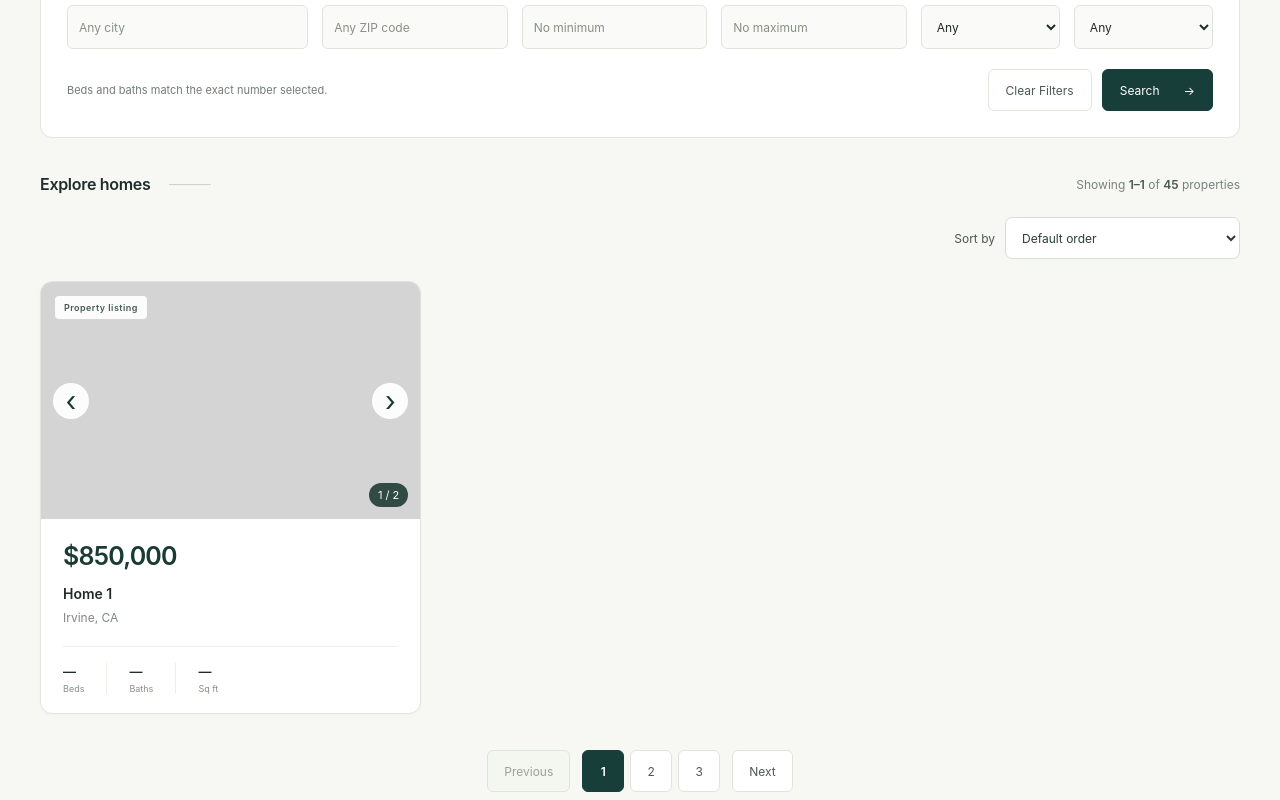
Test: carousel arrows change photos while the card link navigates with L_ListingID
Later steps or results of the test are not shown.
(page scrolled)
Expected: the link "Home 1" is shown, [63,585,112,602]
Click the button named "Next photo of Home 1".
click(390, 401)  # box [372,383,408,419]
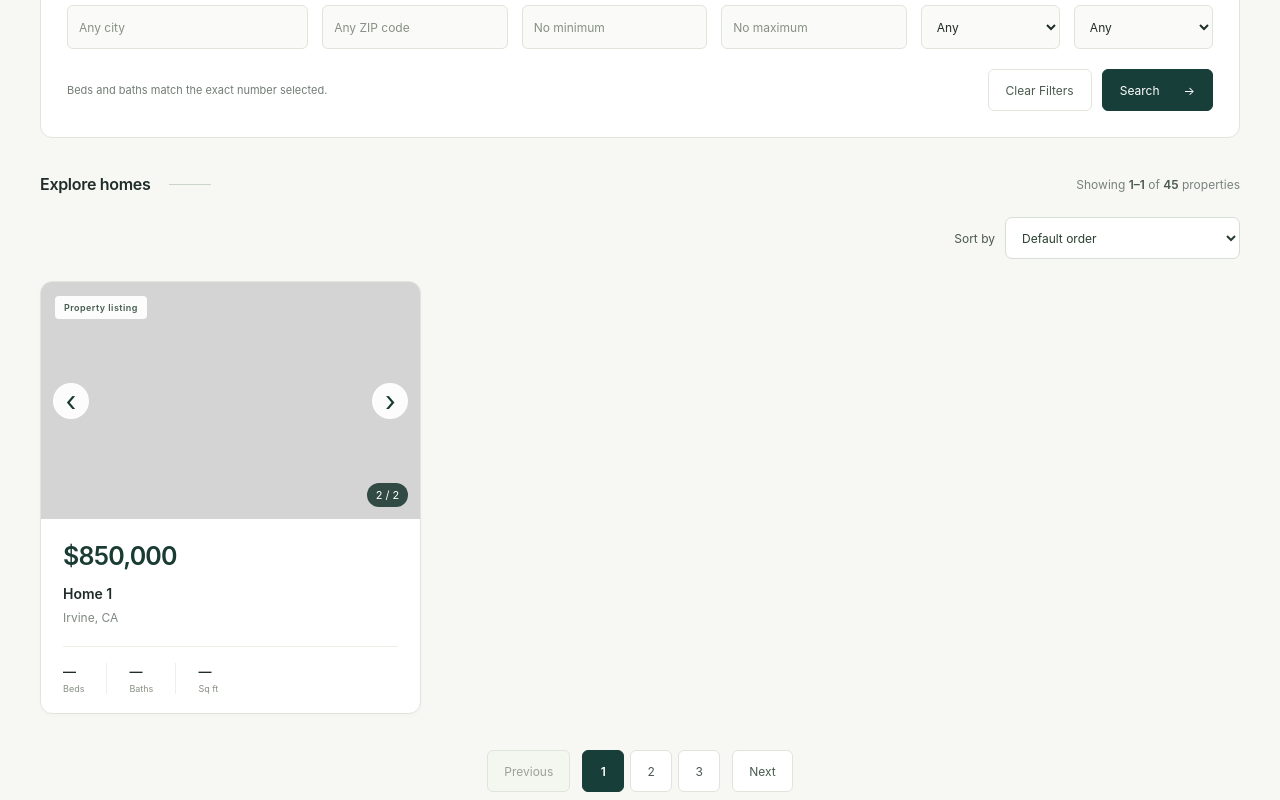
Expected: the text "2 / 2" is shown, [367,483,408,507]
